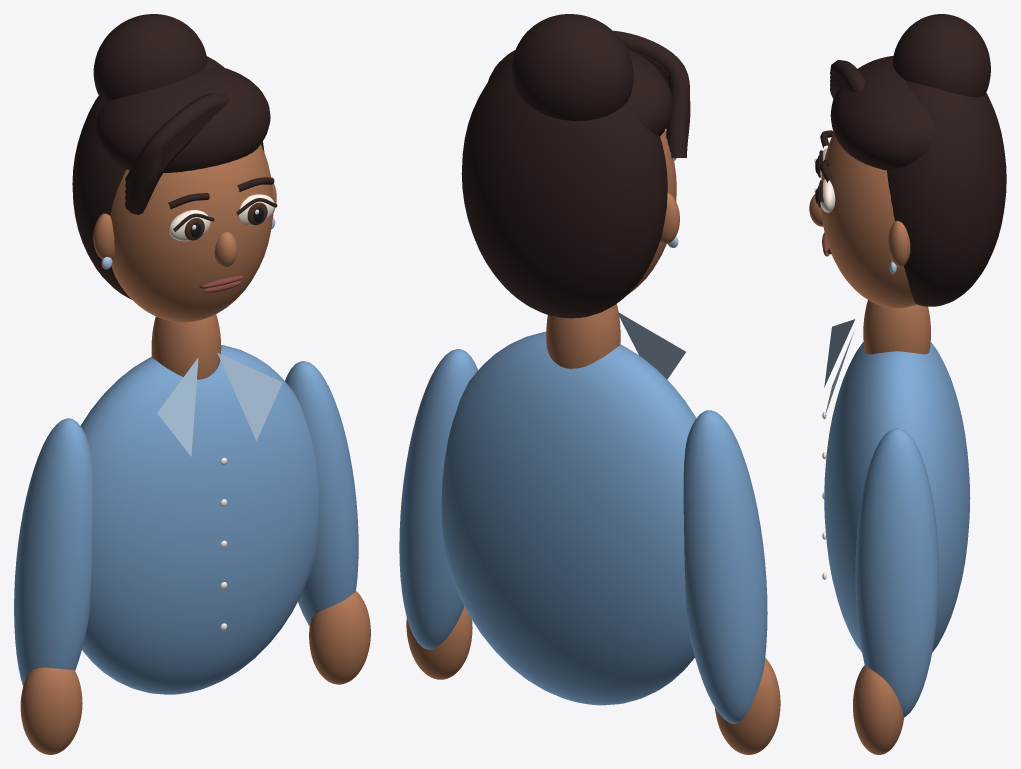
Rendered from maya.glb.
3 views of the same model, side by side, from view 1: azimuth 30°, elevation 25°; view 2: azimuth 150°, elevation 25°; view 3: azimuth 270°, elevation 25° (orthographic). The views are drawn at different scales.
Parts seen in each view (by area): view 1: Blouse, Face, Sleeve-1, HairCap, Sleeve1, HairBun, HairBack, Hand-1, Hand1, Neck, Collar1, SweptHair4 (+4 smaller); view 2: Blouse, HairBack, Sleeve-1, Sleeve1, HairBun, Neck, Hand-1, HairCap, Hand1, SweptHair4, Collar-1, Face (+1 smaller); view 3: Blouse, Sleeve1, HairBack, Face, HairCap, HairBun, Hand1, Neck, Ear1, Collar-1, SweptHair4, EyeWhite1.
Boxes of the visible parts, left/top/right/bottom form: Blouse: left=80, top=345, right=319, bottom=694; Face: left=110, top=144, right=273, bottom=322; Sleeve-1: left=14, top=418, right=92, bottom=686; HairCap: left=96, top=67, right=270, bottom=172; Sleeve1: left=285, top=361, right=358, bottom=625; HairBun: left=93, top=14, right=207, bottom=101; HairBack: left=72, top=56, right=264, bottom=299; Hand-1: left=20, top=667, right=82, bottom=754; Hand1: left=309, top=591, right=370, bottom=684; Neck: left=151, top=314, right=221, bottom=379; Collar1: left=217, top=352, right=282, bottom=440; SweptHair4: left=125, top=93, right=229, bottom=187; Blouse: left=441, top=331, right=696, bottom=705; HairBack: left=461, top=57, right=667, bottom=318; Sleeve-1: left=683, top=410, right=767, bottom=723; Sleeve1: left=399, top=349, right=478, bottom=649; HairBun: left=511, top=14, right=633, bottom=120; Neck: left=546, top=304, right=620, bottom=368; Hand-1: left=715, top=658, right=780, bottom=754; HairCap: left=488, top=48, right=673, bottom=136; Hand1: left=406, top=606, right=472, bottom=679; SweptHair4: left=613, top=30, right=689, bottom=132; Collar-1: left=618, top=312, right=685, bottom=379; Face: left=628, top=130, right=676, bottom=294; Blouse: left=824, top=342, right=970, bottom=652; Sleeve1: left=855, top=428, right=938, bottom=717; HairBack: left=887, top=80, right=1006, bottom=306; Face: left=821, top=133, right=916, bottom=308; HairCap: left=830, top=56, right=935, bottom=170; HairBun: left=892, top=14, right=990, bottom=97; Hand1: left=853, top=665, right=903, bottom=754; Neck: left=863, top=300, right=930, bottom=354; Ear1: left=888, top=221, right=910, bottom=267; Collar-1: left=824, top=319, right=855, bottom=387; SweptHair4: left=830, top=60, right=865, bottom=92; EyeWhite1: left=820, top=179, right=835, bottom=212.
Bounding box in the file's own units: 1.48 × 2.79 × 0.757.
